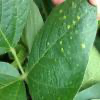Soyabean leaf: (2, 0, 73, 99)
